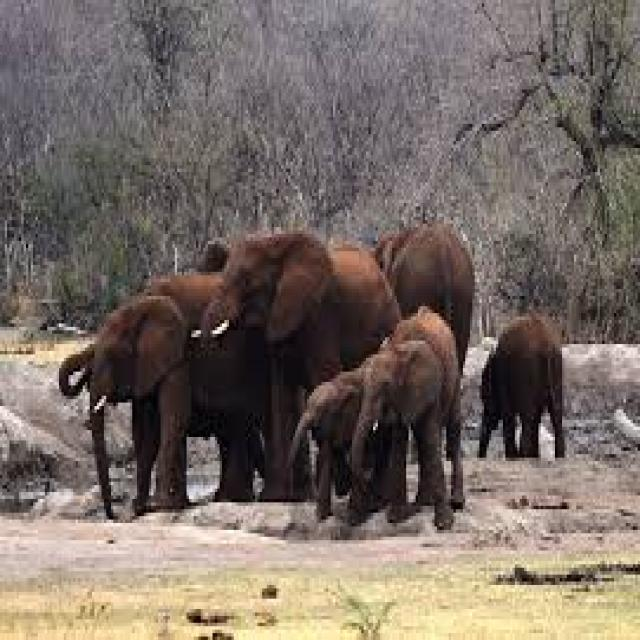Elephant: (196, 227, 401, 502), (283, 303, 463, 530), (373, 217, 475, 375), (477, 310, 564, 458)
